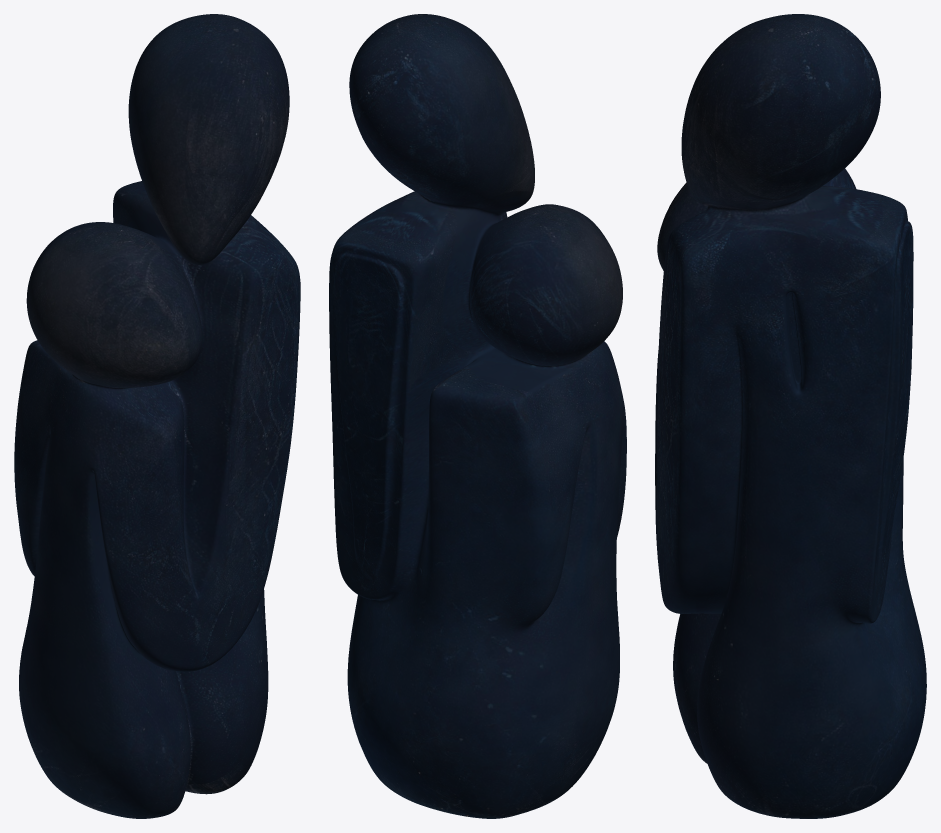
File: lovers-uploaded-v1.glb
3 renders of one model, left to right at view 1: azimuth 30°, elevation 25°; view 2: azimuth 150°, elevation 25°; view 3: azimuth 270°, elevation 25°, orthographic. The views are drawn at different scales.
Bounding box in the file's own units: 0.6498 × 1.9 × 0.5946.
1 material, 1 textured.
